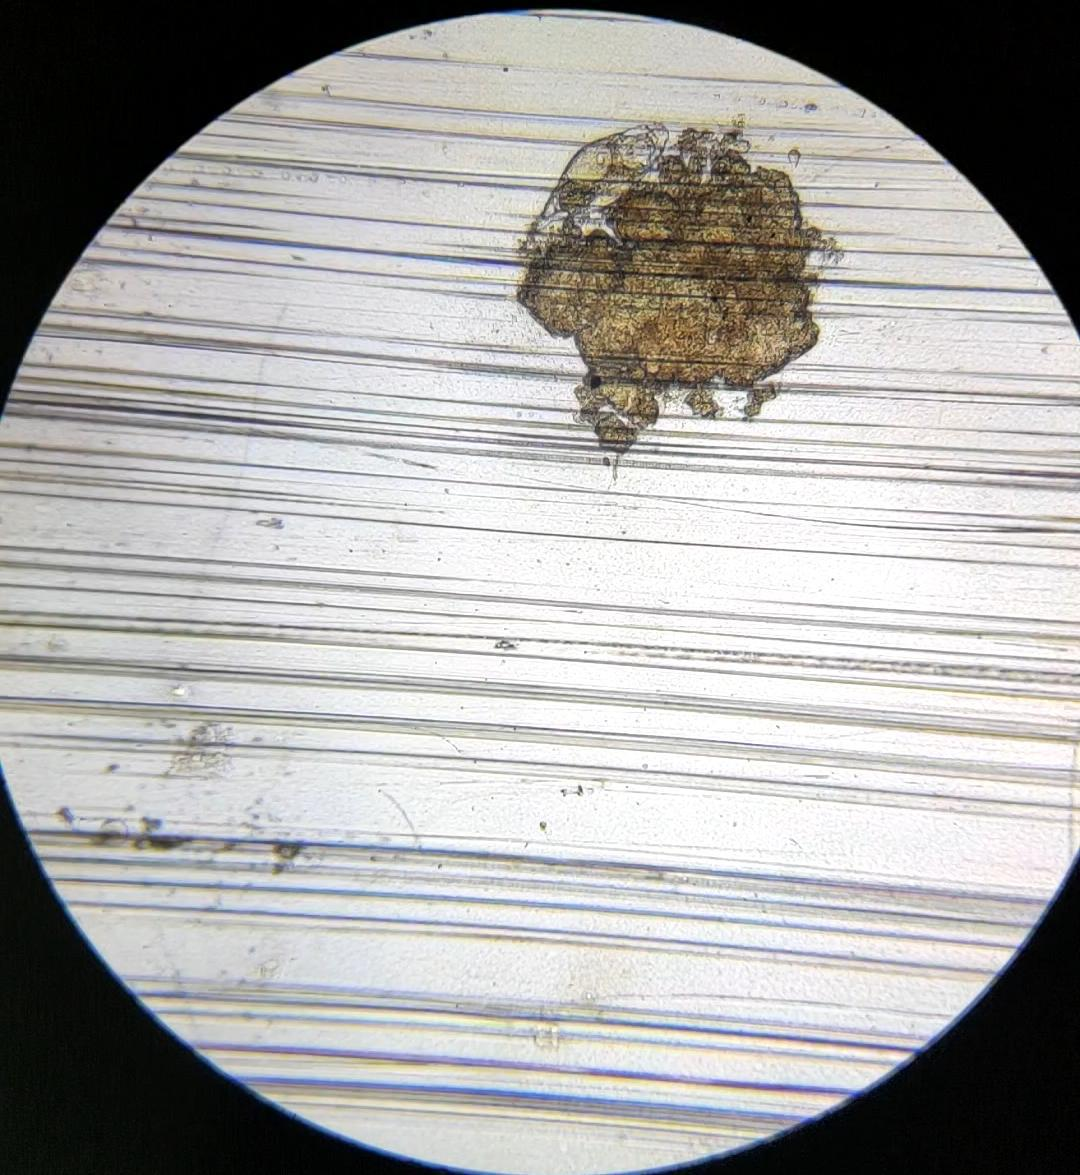Do: (526, 121, 669, 235)
